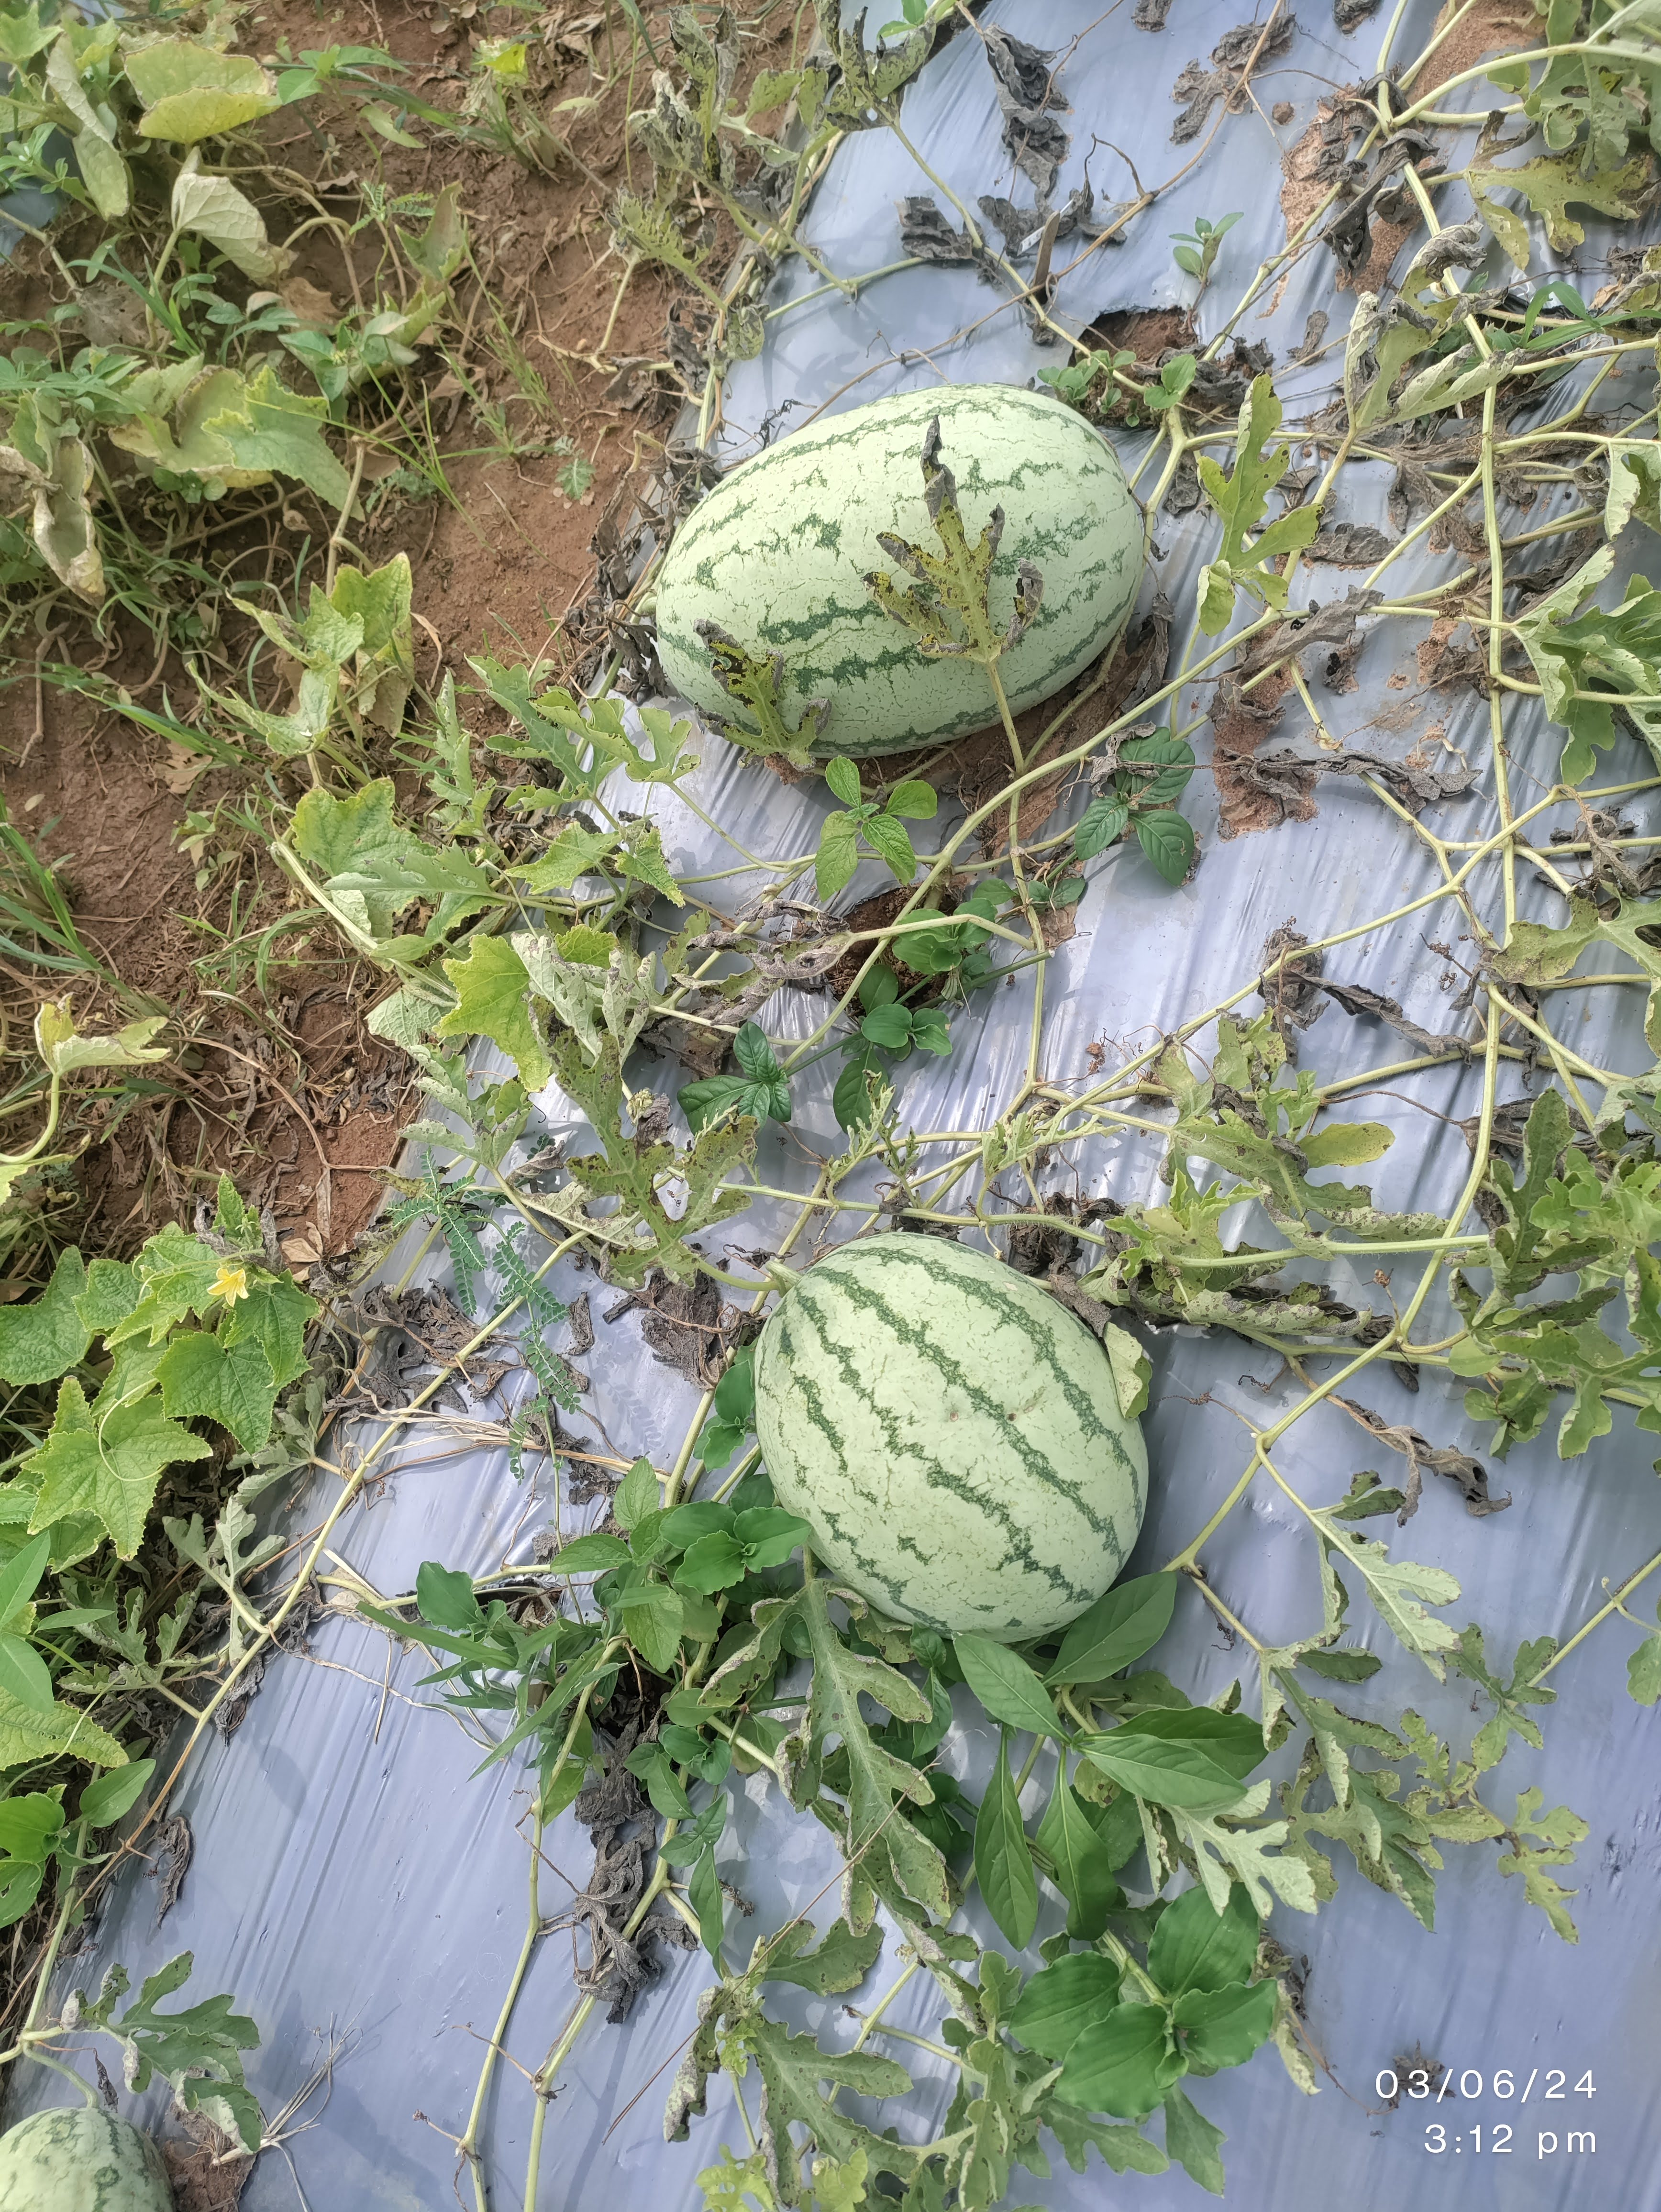good-to-harvest: (647, 1200, 1256, 1669), (602, 351, 1228, 783)
